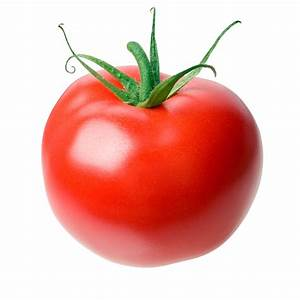tomato: (39, 56, 264, 276)
